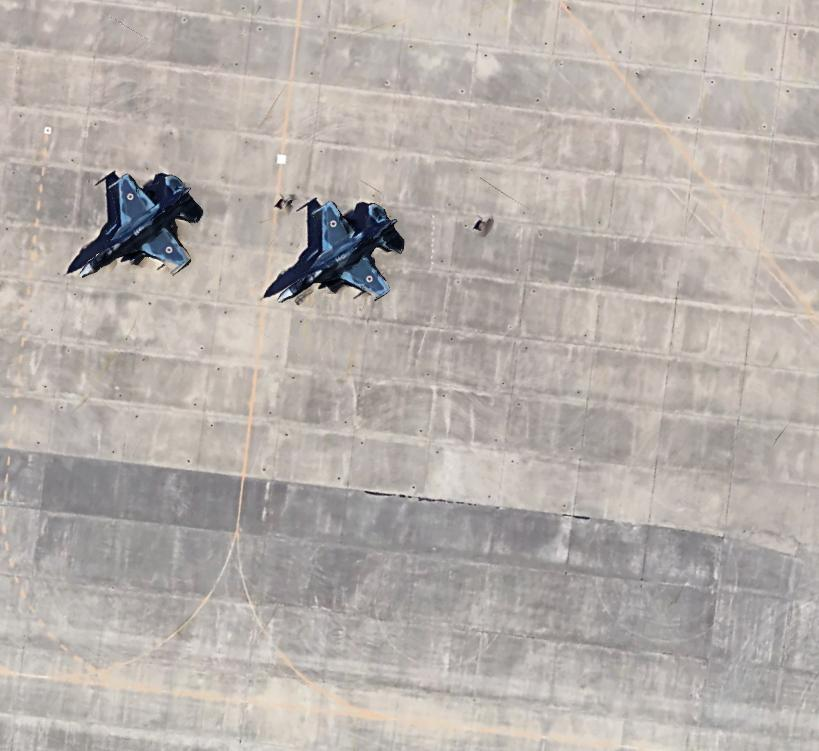A5: (68, 163, 210, 286), (267, 192, 409, 315)
